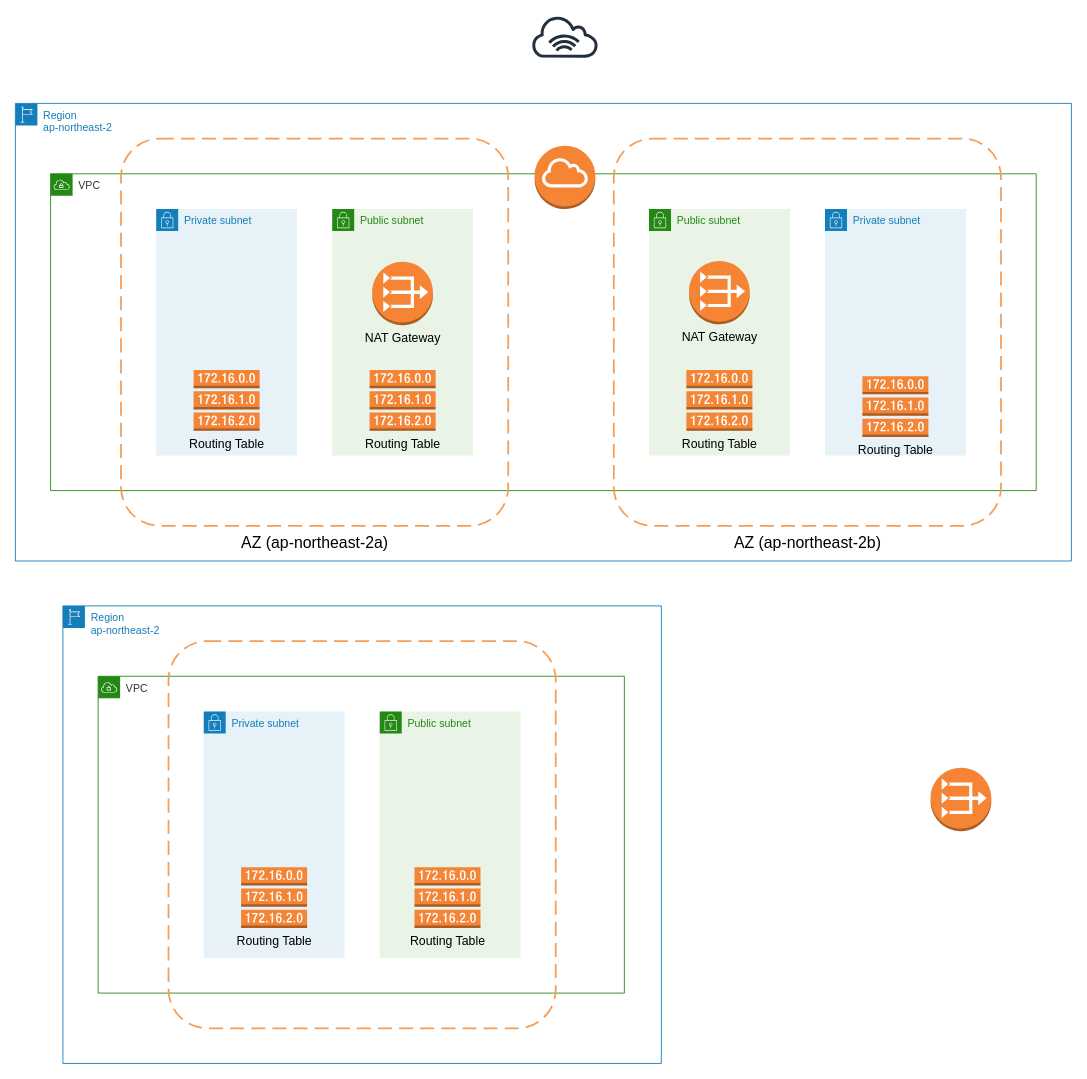
The diagram is 1087 pixels wide and 1079 high, and some of its shapes have lost their labels. The centre of each missing label's shape, as x and y in pixels:
"Internet" belongs at (564,36).
"internet gateway" belongs at (564,177).
